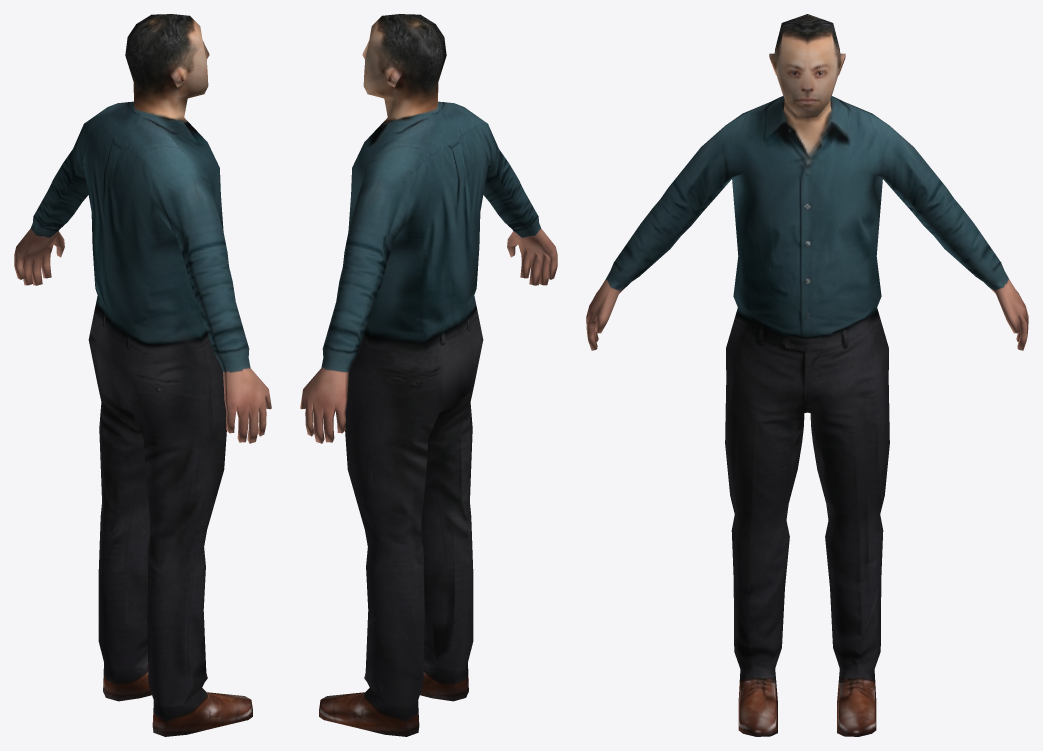
The model's file is Character_Male_39.fbx.
3 renders of one model, left to right at view 1: azimuth 30°, elevation 25°; view 2: azimuth 150°, elevation 25°; view 3: azimuth 270°, elevation 25°, orthographic.
Visible parts, largest first — view 1: Character_Male_39; view 2: Character_Male_39; view 3: Character_Male_39.
Part boxes in pixels (box(x1,y1,x2,y2)): Character_Male_39: box(14, 14, 271, 736); Character_Male_39: box(300, 14, 557, 736); Character_Male_39: box(586, 14, 1028, 736).
Bounding box in the file's own units: 0.3103 × 1.72 × 0.9973.
